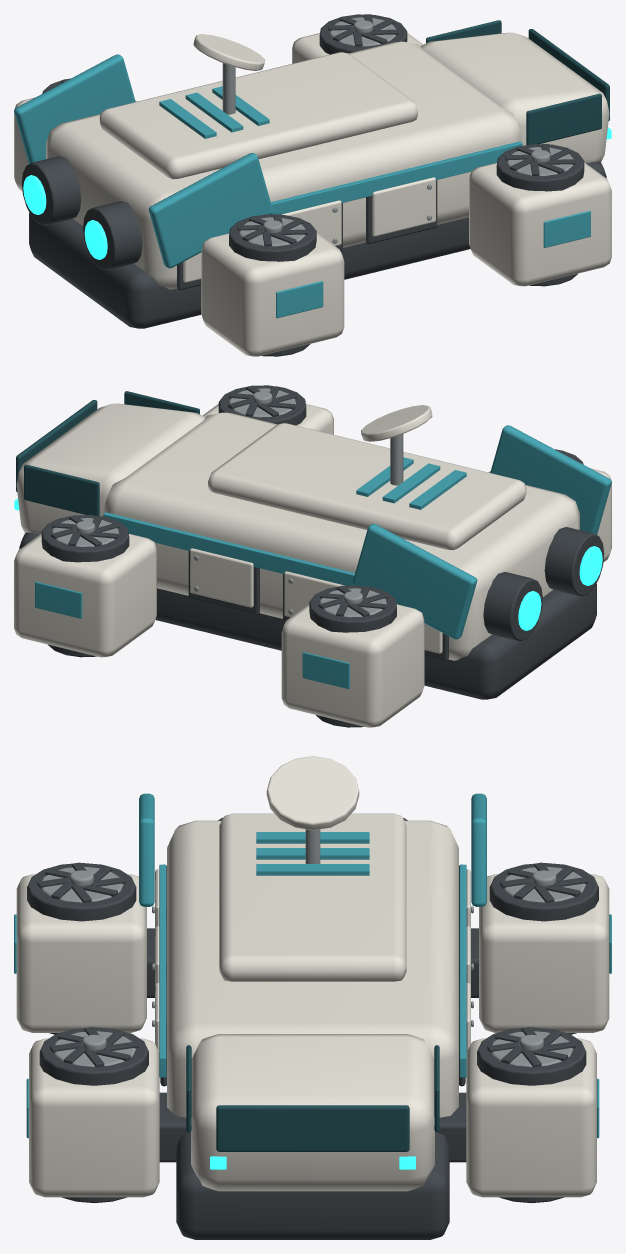
File: SM_OrionExchange_Body.fbx
The picture shows the model from 3 angles, top to bottom: view 1: azimuth 30°, elevation 25°; view 2: azimuth 150°, elevation 25°; view 3: azimuth 270°, elevation 25°; orthographic projection. The views are drawn at different scales.
Parts seen in each view (by area): view 1: SM_OrionExchange_Body.001; view 2: SM_OrionExchange_Body.001; view 3: SM_OrionExchange_Body.001.
Part boxes in pixels (<box>): SM_OrionExchange_Body.001: <box>14,14,611,356</box>; SM_OrionExchange_Body.001: <box>14,385,611,727</box>; SM_OrionExchange_Body.001: <box>14,756,611,1239</box>.
Bounding box in the file's own units: 34470 × 28440 × 14674.
